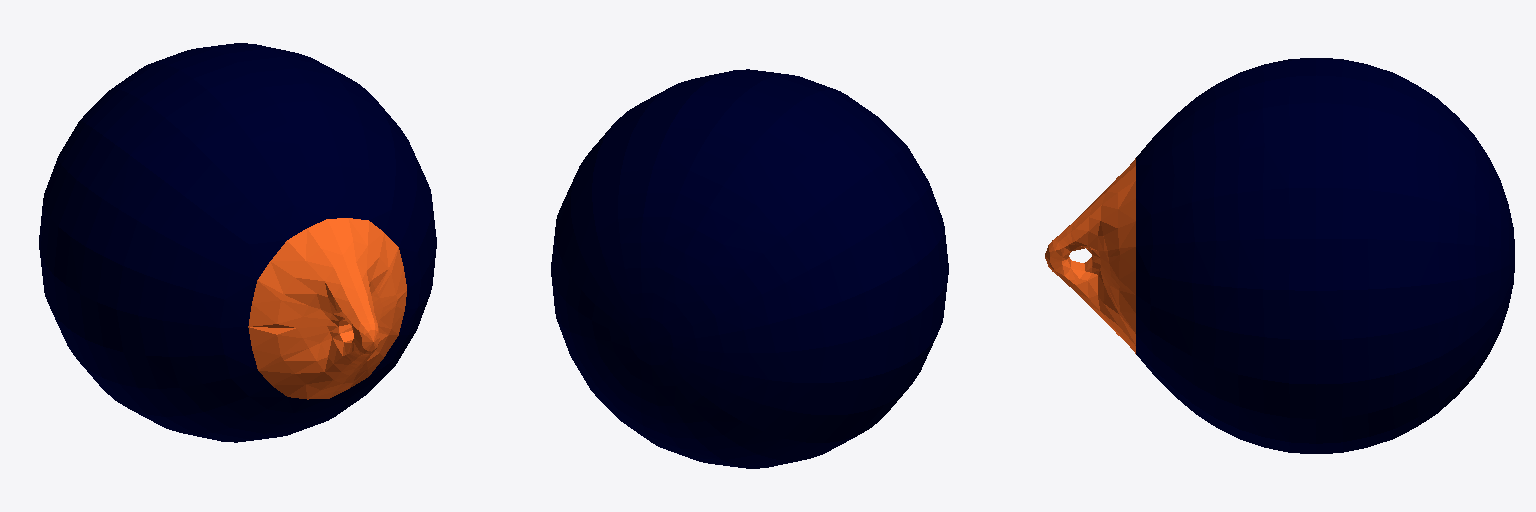
3 views of the same model, side by side, from view 1: azimuth 30°, elevation 25°; view 2: azimuth 150°, elevation 25°; view 3: azimuth 270°, elevation 25° (orthographic).
Visible parts, largest first — view 1: Sphere; view 2: Sphere; view 3: Sphere.
Part boxes in pixels (bbox=[...]): Sphere: bbox=[39, 43, 436, 442]; Sphere: bbox=[551, 69, 948, 468]; Sphere: bbox=[1045, 58, 1514, 453].
Bounding box in the file's own units: 0.2291 × 0.2291 × 0.2707.
Materials: 1 (1 with a texture image).